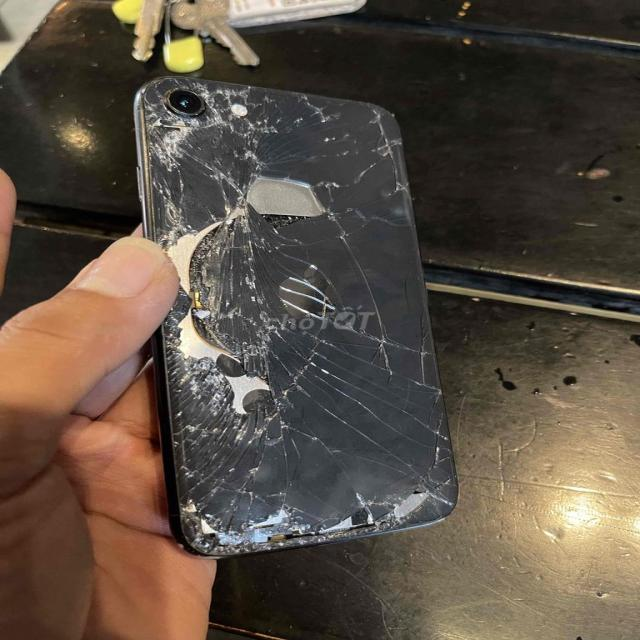gen_7_8: (127, 70, 456, 558)
